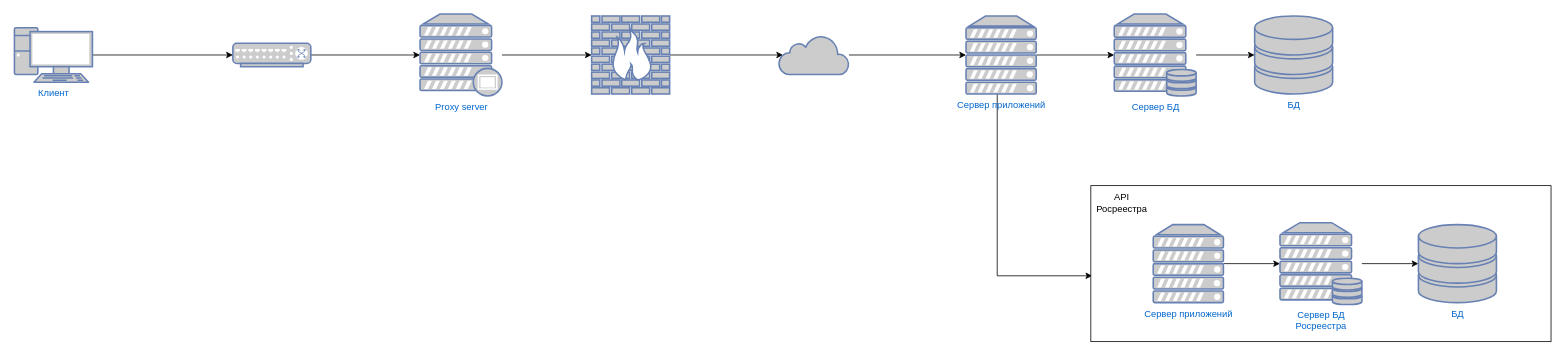
This 1565x356 diagram has some shape labels left out. The centre of each missing label's shape, as x and y in pixels:
"Firewall" goes at (630,54).
"Internet" goes at (813,54).
"SWITCH" goes at (271,54).
